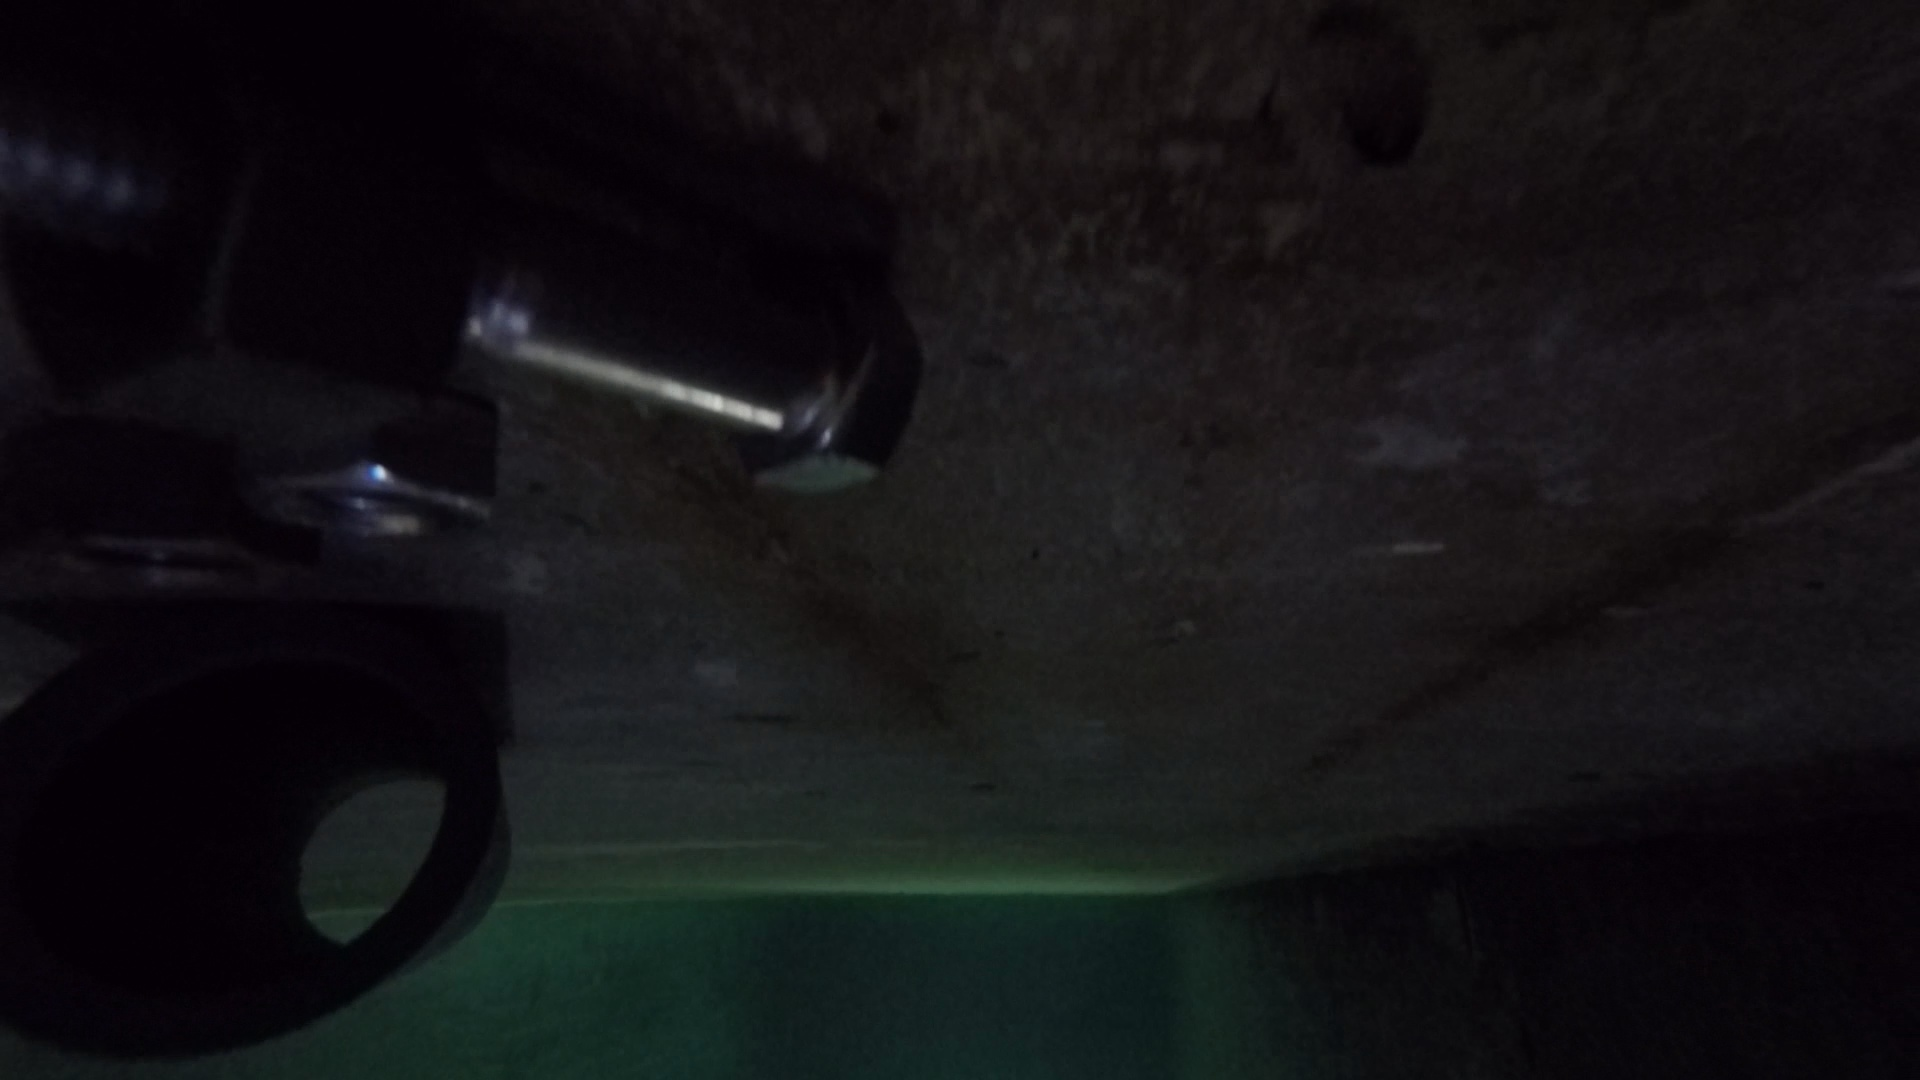bolt: (7, 62, 922, 498)
nut: (18, 104, 487, 454), (13, 433, 319, 618), (247, 386, 502, 545)
pipe: (1, 624, 513, 1065)
